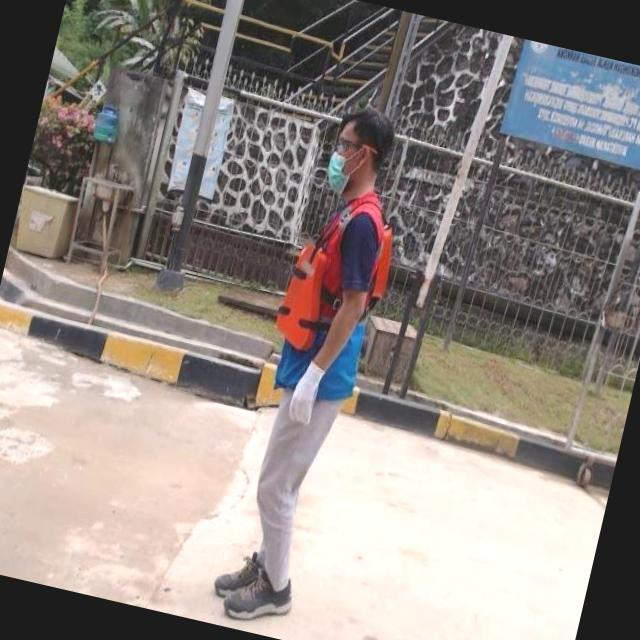gloves: (258, 349, 336, 434)
no-boots: (218, 557, 298, 633), (208, 542, 272, 614)
no-helmet: (303, 88, 414, 197)
vest: (260, 175, 402, 408)
